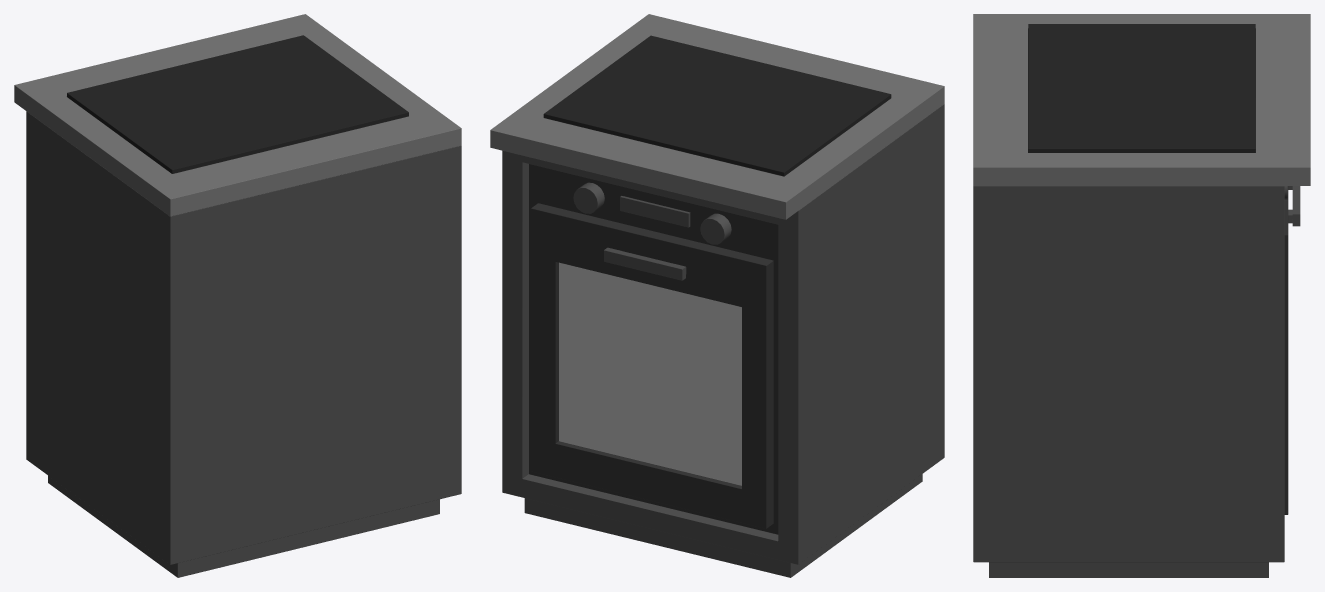
Rendered from Cocina.fbx.
3 views of the same model, side by side, from view 1: azimuth 30°, elevation 25°; view 2: azimuth 150°, elevation 25°; view 3: azimuth 270°, elevation 25° (orthographic). The views are drawn at different scales.
Parts seen in each view (by area): view 1: Oven.001; view 2: Oven.001; view 3: Oven.001.
Boxes of the visible parts, x1,y1,x2,y2 form: Oven.001: [14, 14, 461, 577]; Oven.001: [490, 14, 944, 577]; Oven.001: [973, 14, 1310, 577].
Bounding box in the file's own units: 70 × 89.91 × 65.
1 material, 1 textured.
